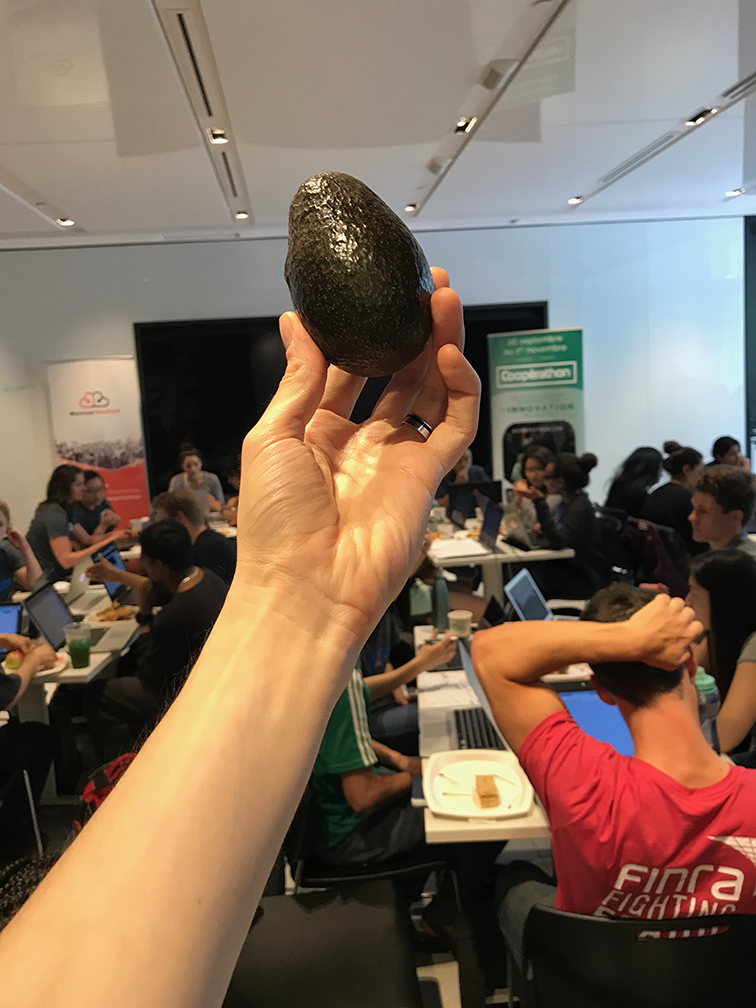avocado: (281, 165, 446, 386)
